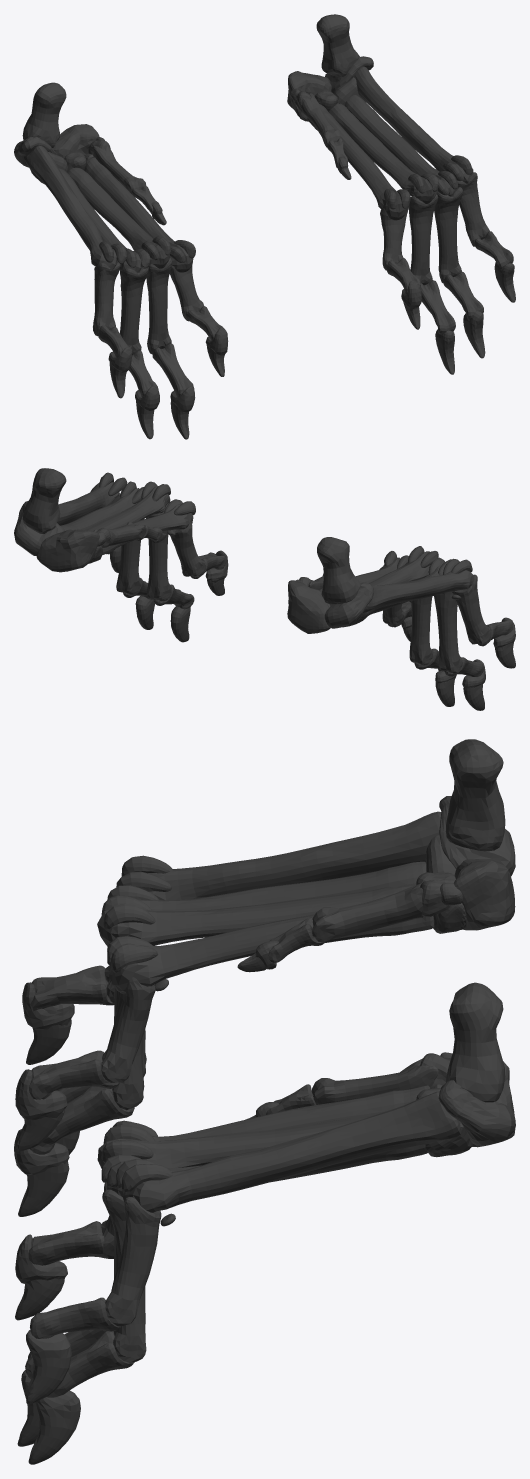
Rendered from B_Carpals_down.glb.
3 renders of one model, top to bottom at view 1: azimuth 30°, elevation 25°; view 2: azimuth 150°, elevation 25°; view 3: azimuth 270°, elevation 25°, orthographic. The views are drawn at different scales.
Parts seen in each view (by area): view 1: B_Carpals_down; view 2: B_Carpals_down; view 3: B_Carpals_down.
Part boxes in pixels (left/top/right/bottom): B_Carpals_down: left=14, top=14, right=515, bottom=439; B_Carpals_down: left=14, top=468, right=515, bottom=710; B_Carpals_down: left=14, top=739, right=515, bottom=1464.
Size of the model in its own units: 0.00934 by 0.00588 by 0.00573.
1 material, 1 textured.
